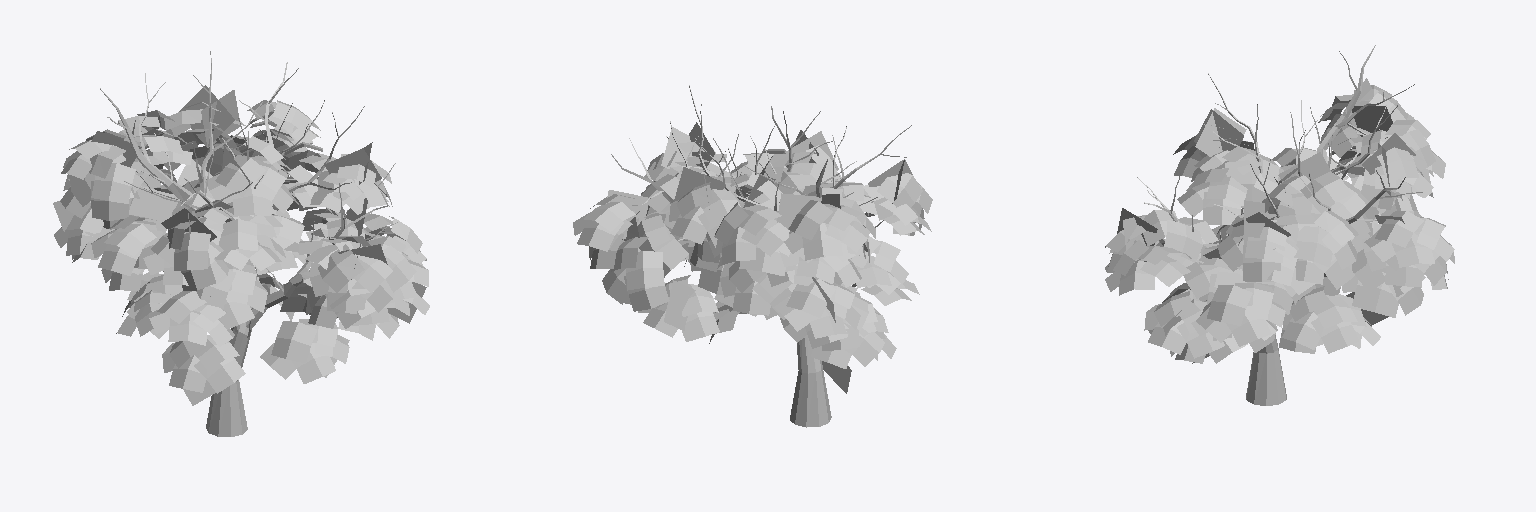
File: tree4a_lod0.obj
3 views of the same model, side by side, from view 1: azimuth 30°, elevation 25°; view 2: azimuth 150°, elevation 25°; view 3: azimuth 270°, elevation 25° (orthographic).
Visible parts, largest first — view 1: leaves 0.0 0.[number redacted] 0.0 0 0 0 0.[number redacted] 0.[number redacted] , bark 0.[number redacted] -0.[number redacted] -0.[number redacted]; view 2: leaves 0.0 0.[number redacted] 0.0 0 0 0 0.[number redacted] 0.[number redacted] , bark 0.[number redacted] -0.[number redacted] -0.[number redacted]; view 3: leaves 0.0 0.[number redacted] 0.0 0 0 0 0.[number redacted] 0.[number redacted] , bark 0.[number redacted] -0.[number redacted] -0.[number redacted].
Boxes of the visible parts, box(x1,y1,x2,y2) form: leaves 0.0 0.[number redacted] 0.0 0 0 0 0.[number redacted] 0.[number redacted] : box(53, 85, 429, 405); bark 0.[number redacted] -0.[number redacted] -0.[number redacted]: box(100, 51, 397, 436); leaves 0.0 0.[number redacted] 0.0 0 0 0 0.[number redacted] 0.[number redacted] : box(573, 122, 932, 393); bark 0.[number redacted] -0.[number redacted] -0.[number redacted]: box(611, 85, 911, 427); leaves 0.0 0.[number redacted] 0.0 0 0 0 0.[number redacted] 0.[number redacted] : box(1105, 78, 1454, 363); bark 0.[number redacted] -0.[number redacted] -0.[number redacted]: box(1137, 45, 1422, 405).
Size of the model in its own units: 0.9637 by 1 by 1.